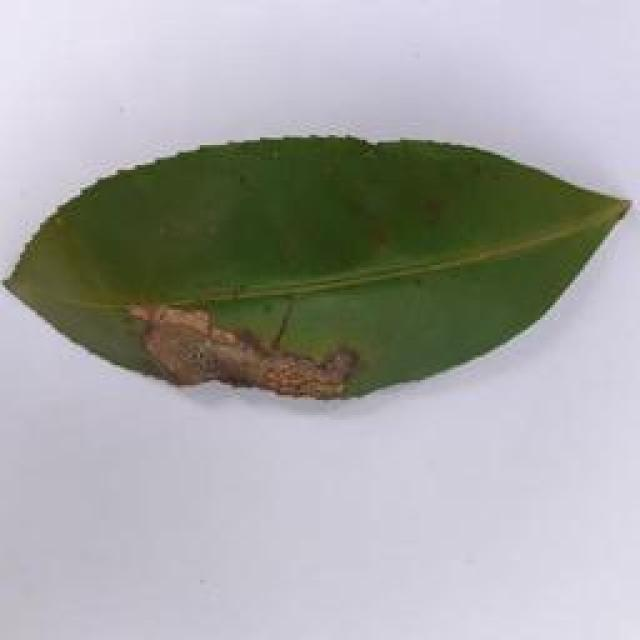Gray Blight: (0, 130, 635, 422)
